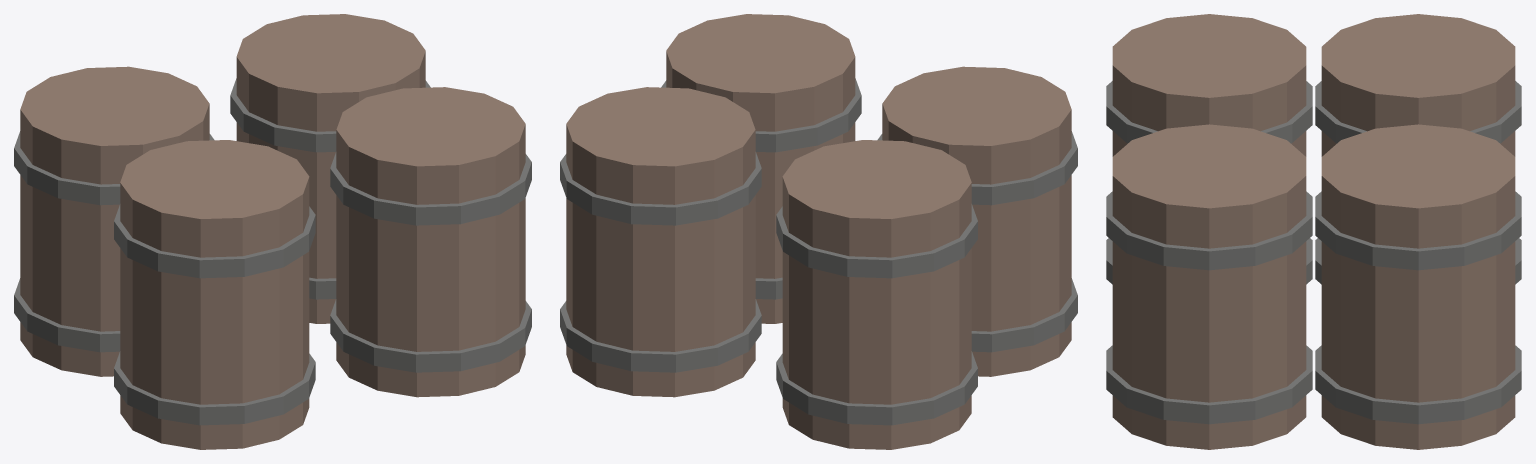
File: fassstapel_1945.glb
3 views of the same model, side by side, from view 1: azimuth 30°, elevation 25°; view 2: azimuth 150°, elevation 25°; view 3: azimuth 270°, elevation 25° (orthographic). The views are drawn at different scales.
Parts seen in each view (by area): view 1: fassstapel_1945_009, fassstapel_1945_006, fassstapel_1945_000, fassstapel_1945_003, fassstapel_1945_007, fassstapel_1945_008, fassstapel_1945_011, fassstapel_1945_010, fassstapel_1945_005, fassstapel_1945_002, fassstapel_1945_001, fassstapel_1945_004; view 2: fassstapel_1945_003, fassstapel_1945_000, fassstapel_1945_006, fassstapel_1945_009, fassstapel_1945_001, fassstapel_1945_002, fassstapel_1945_005, fassstapel_1945_004, fassstapel_1945_011, fassstapel_1945_008, fassstapel_1945_007, fassstapel_1945_010; view 3: fassstapel_1945_003, fassstapel_1945_009, fassstapel_1945_000, fassstapel_1945_006, fassstapel_1945_005, fassstapel_1945_011, fassstapel_1945_004, fassstapel_1945_010, fassstapel_1945_002, fassstapel_1945_008, fassstapel_1945_001, fassstapel_1945_007.
Boxes of the visible parts, x1,y1,x2,y2 form: fassstapel_1945_009: (336, 87, 525, 397); fassstapel_1945_006: (120, 140, 309, 449); fassstapel_1945_000: (20, 66, 209, 376); fassstapel_1945_003: (236, 14, 425, 323); fassstapel_1945_007: (114, 351, 315, 425); fassstapel_1945_008: (114, 204, 315, 278); fassstapel_1945_011: (330, 152, 531, 225); fassstapel_1945_010: (330, 299, 531, 372); fassstapel_1945_005: (230, 78, 430, 152); fassstapel_1945_002: (14, 131, 214, 205); fassstapel_1945_001: (14, 278, 120, 352); fassstapel_1945_004: (309, 277, 336, 299); fassstapel_1945_003: (566, 87, 755, 397); fassstapel_1945_000: (782, 140, 971, 449); fassstapel_1945_006: (882, 66, 1071, 376); fassstapel_1945_009: (666, 14, 855, 323); fassstapel_1945_001: (776, 351, 977, 425); fassstapel_1945_002: (776, 204, 977, 278); fassstapel_1945_005: (560, 152, 761, 225); fassstapel_1945_004: (560, 299, 761, 372); fassstapel_1945_011: (661, 78, 861, 152); fassstapel_1945_008: (877, 131, 1077, 205); fassstapel_1945_007: (971, 278, 1077, 352); fassstapel_1945_010: (755, 277, 782, 299); fassstapel_1945_003: (1321, 124, 1515, 449); fassstapel_1945_009: (1112, 124, 1306, 449); fassstapel_1945_000: (1321, 14, 1515, 156); fassstapel_1945_006: (1112, 14, 1306, 156); fassstapel_1945_005: (1315, 191, 1521, 270); fassstapel_1945_011: (1106, 191, 1312, 270); fassstapel_1945_004: (1315, 345, 1521, 424); fassstapel_1945_010: (1106, 345, 1312, 424); fassstapel_1945_002: (1315, 81, 1521, 143); fassstapel_1945_008: (1106, 81, 1312, 143); fassstapel_1945_001: (1315, 238, 1521, 284); fassstapel_1945_007: (1106, 238, 1312, 284).
Size of the model in its own units: 1.81 by 1.02 by 1.59.
